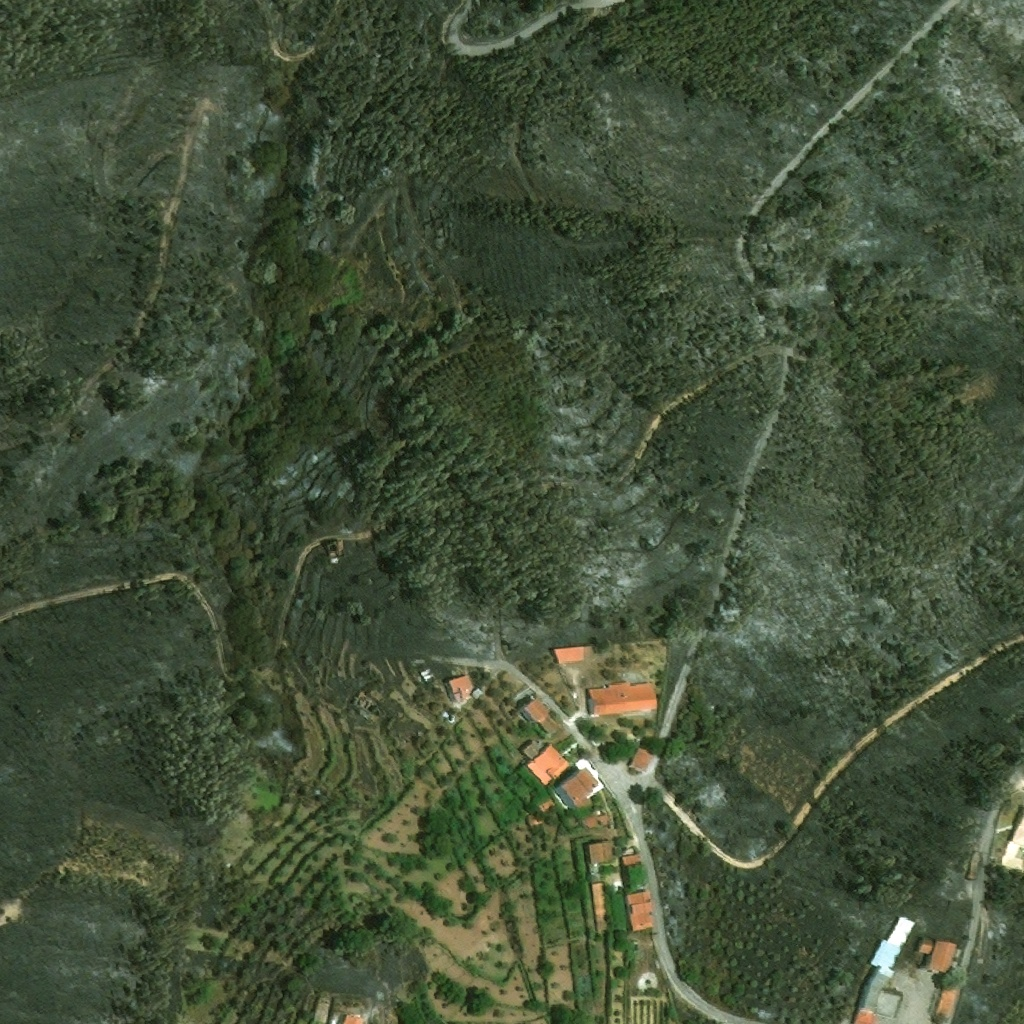0 no-damage: (867, 914, 916, 969), (588, 680, 657, 718), (526, 744, 569, 786), (560, 766, 600, 808), (856, 968, 889, 1012), (998, 814, 1023, 872), (625, 888, 656, 932), (522, 696, 558, 732), (928, 937, 957, 974), (591, 881, 609, 932), (627, 744, 655, 774), (620, 853, 644, 887), (449, 674, 474, 703), (553, 645, 593, 663), (579, 809, 611, 831), (588, 839, 613, 864), (937, 988, 954, 1014), (523, 740, 543, 759), (524, 810, 544, 829), (850, 1008, 875, 1023), (916, 934, 934, 954), (419, 666, 437, 684), (624, 884, 649, 894), (341, 1013, 364, 1023), (541, 796, 556, 811), (875, 968, 894, 978), (472, 688, 483, 699)
1 minor-damage: (329, 1017, 335, 1023)
3 destroyed: (349, 689, 380, 722), (326, 540, 345, 559)
4 un-classified: (917, 985, 935, 1016), (917, 1017, 927, 1023)
